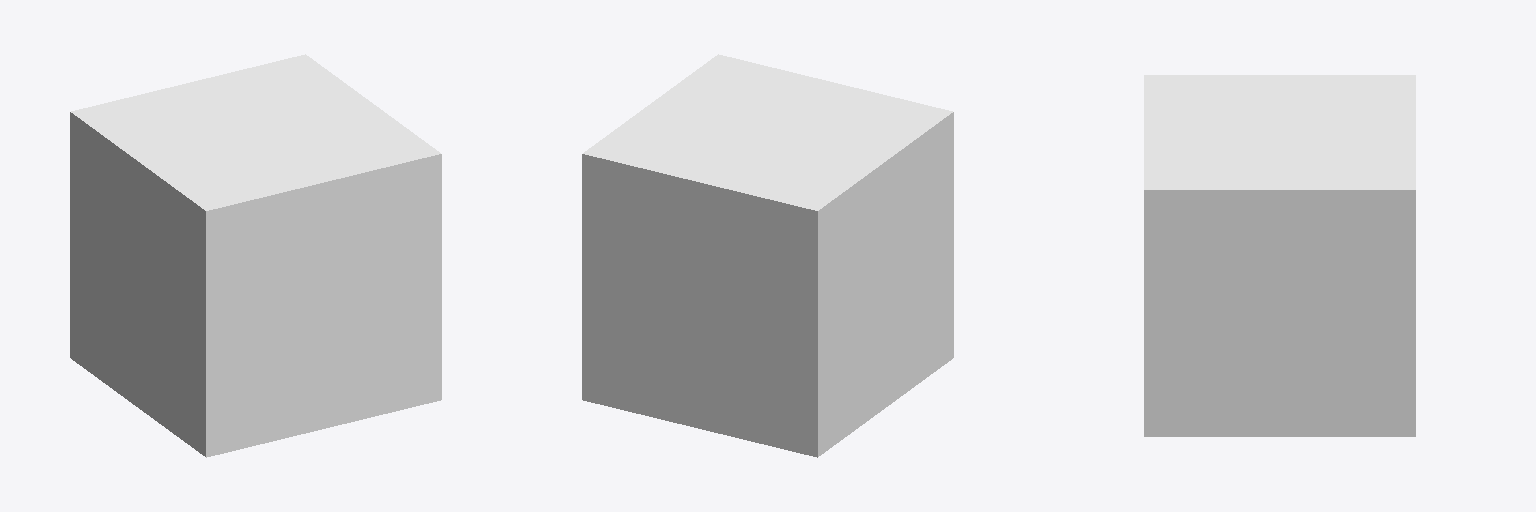
The model's file is gir1.obj.
The picture shows the model from 3 angles: view 1: azimuth 30°, elevation 25°; view 2: azimuth 150°, elevation 25°; view 3: azimuth 270°, elevation 25°; orthographic projection.
Parts seen in each view (by area): view 1: object 1; view 2: object 1; view 3: object 1.
Boxes of the visible parts, box(x1,y1,x2,y2) form: object 1: box(70, 54, 441, 457); object 1: box(582, 54, 953, 457); object 1: box(1144, 75, 1415, 436).
Size of the model in its own units: 4 by 4 by 4.